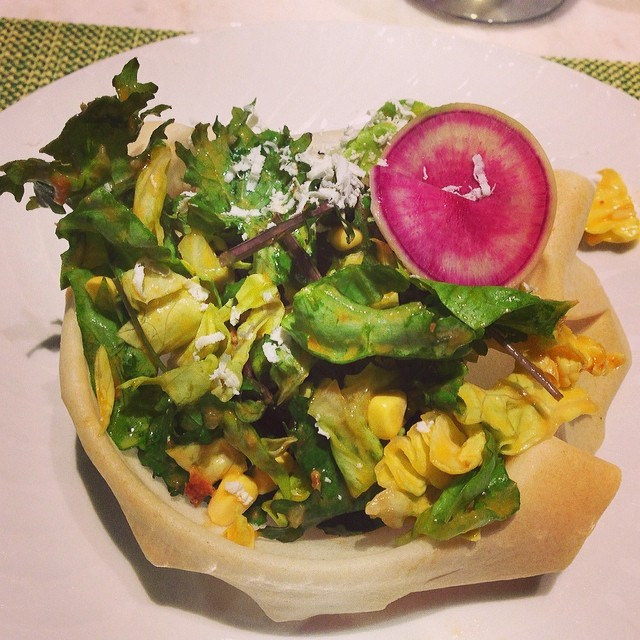chopped lettuce: (148, 150, 409, 455)
